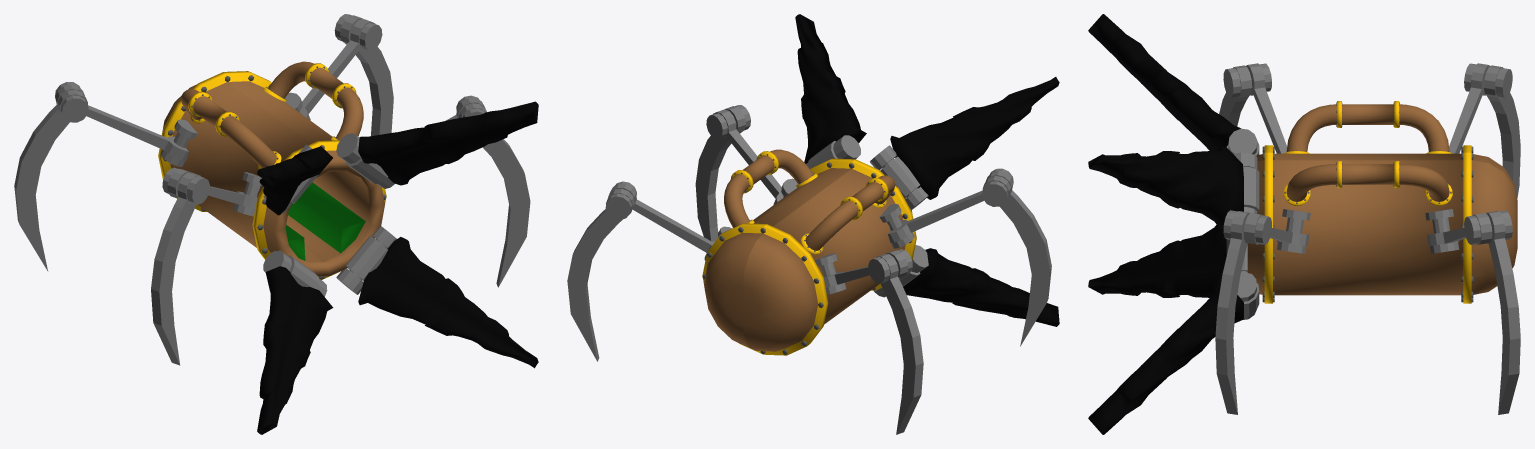
The model's file is DrillV3.fbx.
3 renders of one model, left to right at view 1: azimuth 30°, elevation 25°; view 2: azimuth 150°, elevation 25°; view 3: azimuth 270°, elevation 25°, orthographic. The views are drawn at different scales.
Visible parts, largest first — view 1: Drill_V3_Final; view 2: Drill_V3_Final; view 3: Drill_V3_Final.
Boxes of the visible parts, <box> form: Drill_V3_Final: <box>14,14,538,434</box>; Drill_V3_Final: <box>567,14,1059,434</box>; Drill_V3_Final: <box>1088,14,1520,434</box>.
Bounding box in the file's own units: 379 × 256 × 357.
